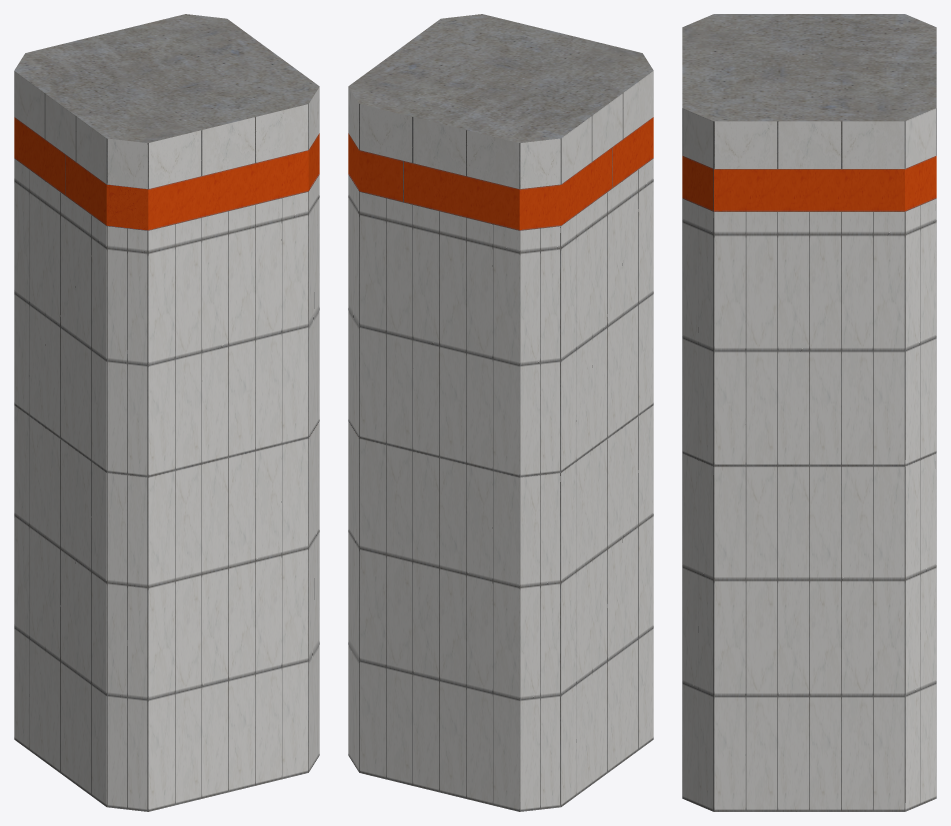
File: Post_1.fbx
3 views of the same model, side by side, from view 1: azimuth 30°, elevation 25°; view 2: azimuth 150°, elevation 25°; view 3: azimuth 270°, elevation 25° (orthographic). The views are drawn at different scales.
Visible parts, largest first — view 1: Post_1; view 2: Post_1; view 3: Post_1.
Part boxes in pixels (bbox=[...]): Post_1: bbox=[14, 14, 319, 811]; Post_1: bbox=[348, 14, 653, 811]; Post_1: bbox=[682, 14, 936, 811].
Bounding box in the file's own units: 1 × 3 × 1.
